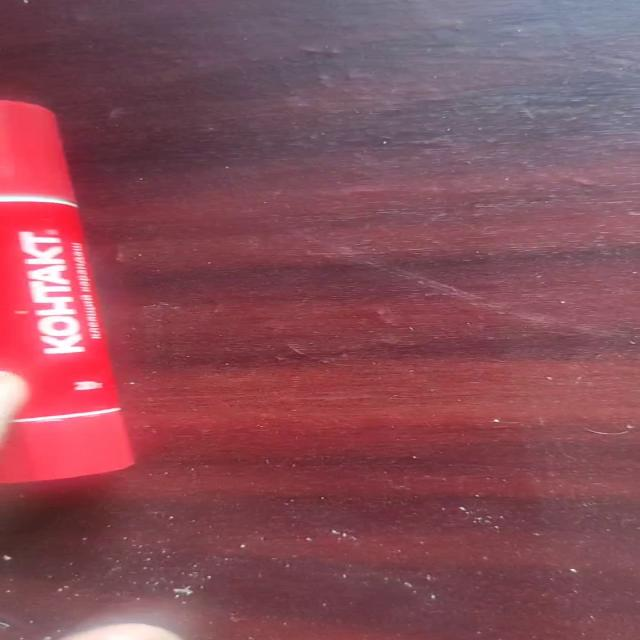glue: (0, 99, 136, 484)
